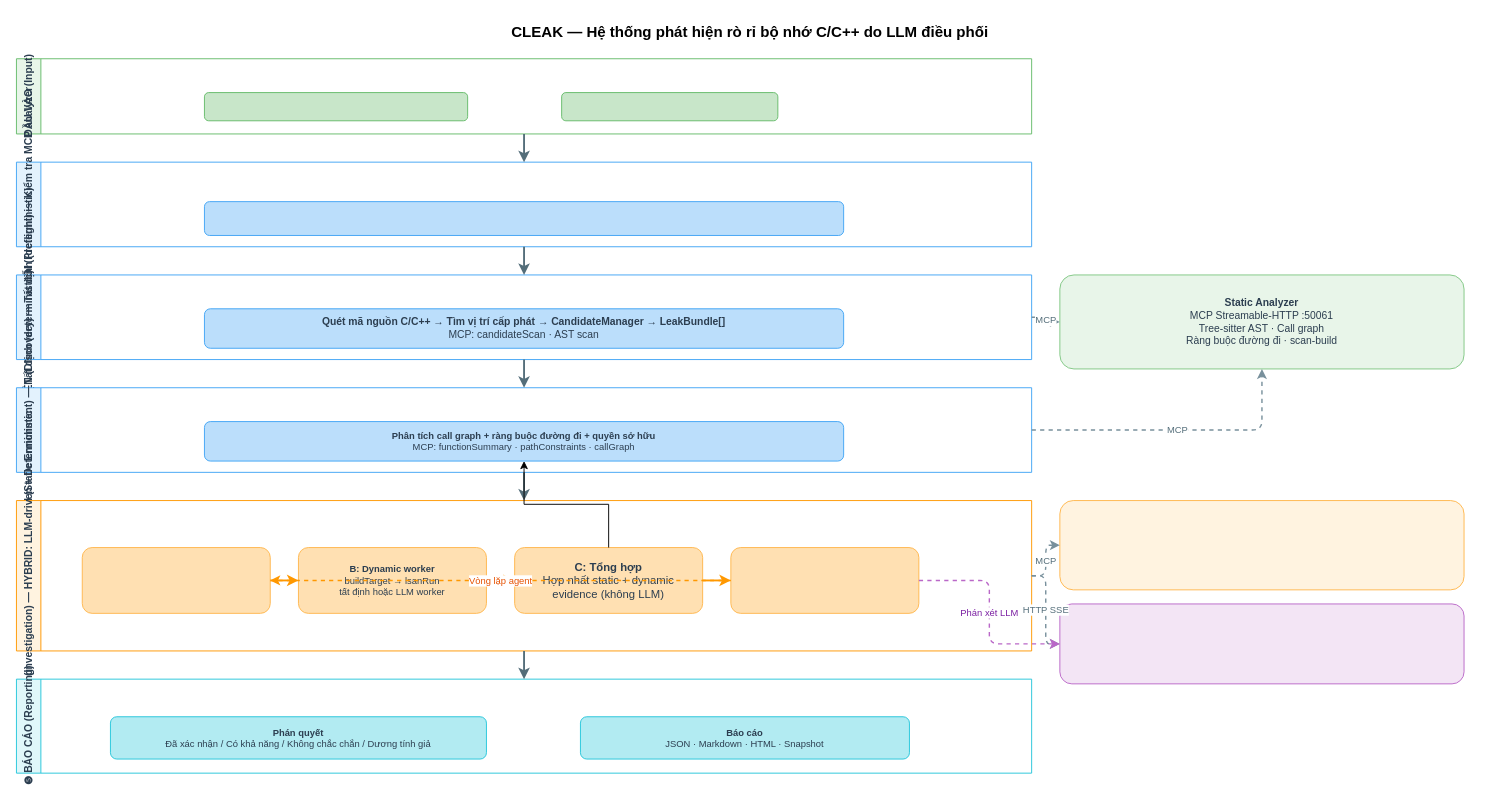
Some shapes in this 1499 by 802 pixel diagram are drawn without their labels. The shapes that lost their labels are listed below. From the top down, each one's centre as x and y in pixels, then its label:
At (336,106): "Mã nguồn C/C++".
At (669,106): "Cấu hình người dùng".
At (524,218): "static-analyzer ping → xác nhận sẵn sàng".
At (1261,545): "Dynamic Analyzer MCP Streamable-HTTP :50062 Valgrind Memcheck · ASan · LSan".
At (175,580): "A: Static fan-out LLM sub-agent gọi MCP tĩnh gom bằng chứng".
At (824,580): "D: Phán xét hybrid Heuristic → LLM (borderline) → Consensus (k mẫu)".
At (1261,643): "LLM Gateway HTTP SSE (streaming) mimo-v2.5-pro / OpenAI / Anthropic".
